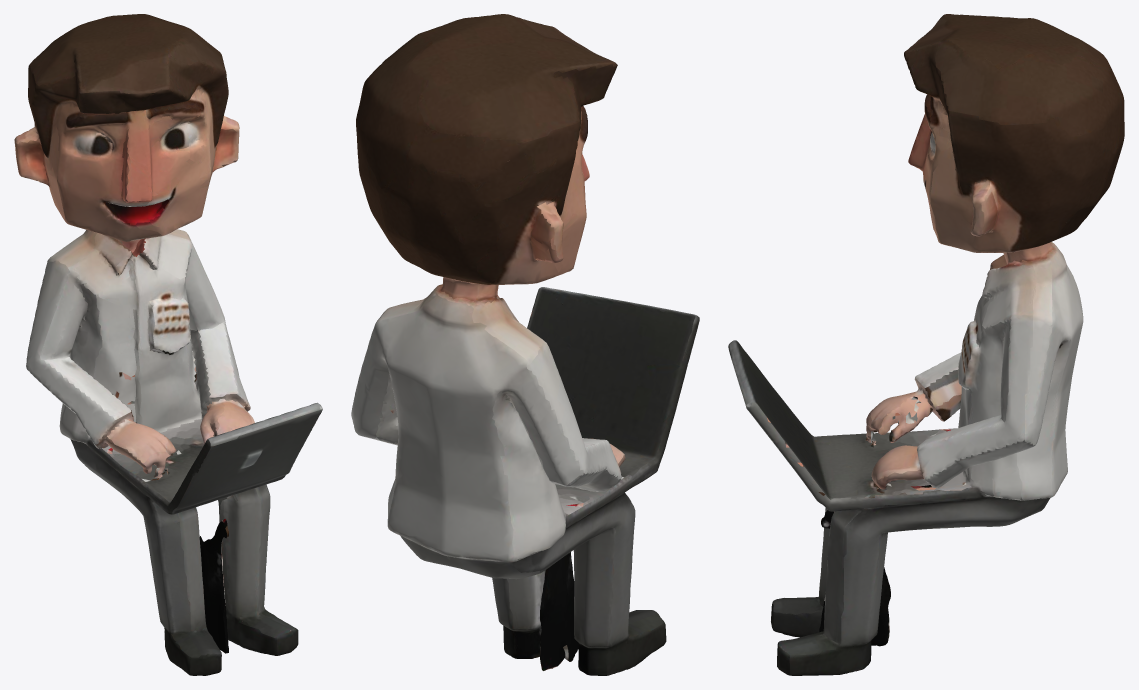
File: char_seated.glb
3 views of the same model, side by side, from view 1: azimuth 30°, elevation 25°; view 2: azimuth 150°, elevation 25°; view 3: azimuth 270°, elevation 25° (orthographic). The views are drawn at different scales.
Visible parts, largest first — view 1: tmpbdz840yb.ply; view 2: tmpbdz840yb.ply; view 3: tmpbdz840yb.ply.
Part boxes in pixels (bbox=[...]): tmpbdz840yb.ply: bbox=[14, 14, 322, 675]; tmpbdz840yb.ply: bbox=[351, 14, 699, 675]; tmpbdz840yb.ply: bbox=[728, 14, 1124, 675].
Size of the model in its own units: 0.7093 by 1.96 by 1.15.
Materials: 1 (1 with a texture image).
